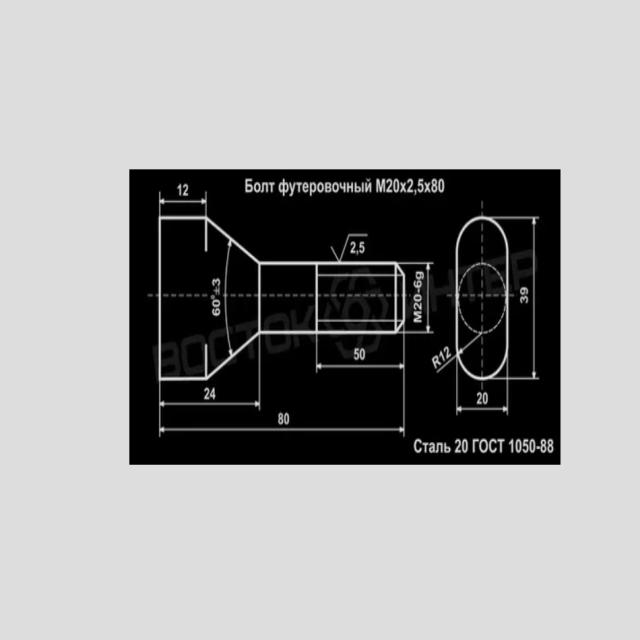marking_line: (158, 382, 406, 438), (510, 216, 540, 381), (314, 335, 406, 374), (158, 382, 262, 412), (405, 262, 434, 335), (455, 382, 510, 416), (158, 193, 208, 215), (226, 242, 232, 354)
numeric: (508, 437, 515, 455), (349, 239, 357, 254), (406, 178, 414, 193), (462, 438, 469, 454), (393, 178, 400, 193), (547, 438, 554, 453), (386, 179, 393, 193), (476, 391, 483, 405), (213, 276, 221, 288), (455, 438, 461, 454), (353, 348, 360, 361), (444, 346, 451, 359), (211, 306, 220, 316), (418, 178, 424, 193), (432, 178, 438, 193), (438, 178, 444, 193), (541, 438, 547, 453), (209, 387, 216, 399), (439, 351, 446, 363), (522, 439, 528, 453), (414, 279, 423, 288), (204, 386, 209, 402), (413, 294, 423, 302), (516, 439, 521, 455), (359, 240, 365, 253), (277, 412, 283, 425), (359, 347, 365, 360), (183, 183, 189, 196), (530, 439, 535, 454), (413, 302, 422, 310), (520, 287, 529, 295), (483, 392, 488, 406), (284, 414, 289, 427), (520, 296, 528, 304), (212, 300, 221, 307), (178, 184, 182, 197)
special_symbol: (331, 230, 369, 261)
